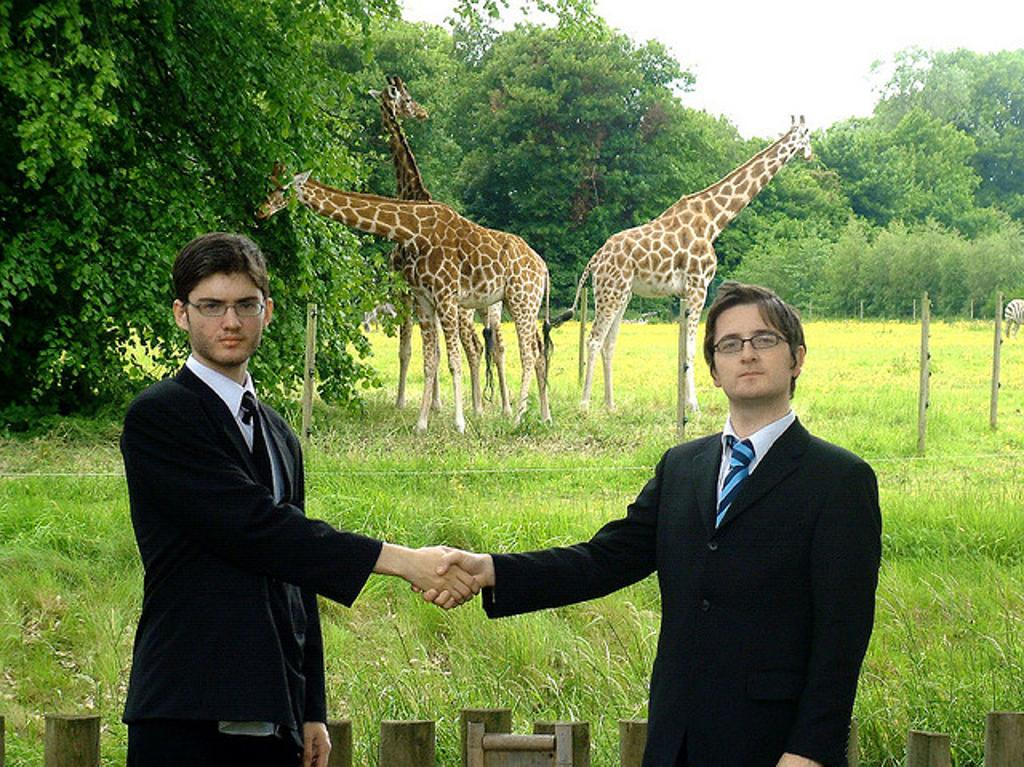face: (712, 306, 790, 400), (188, 270, 264, 364)
